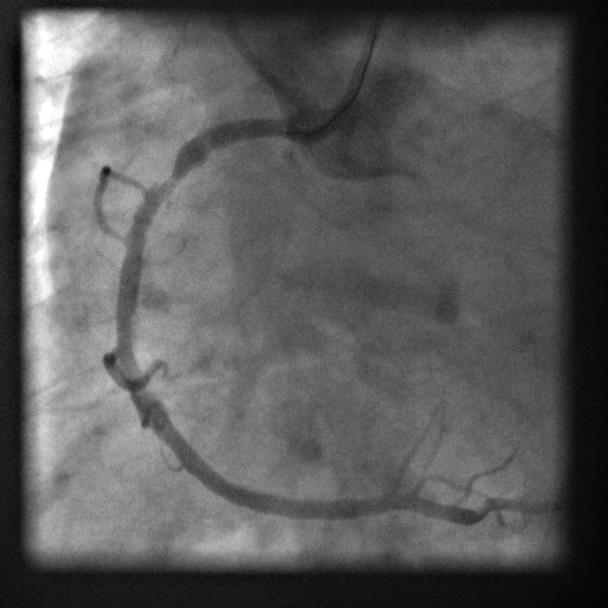Stenosis: (153, 156, 191, 201)
